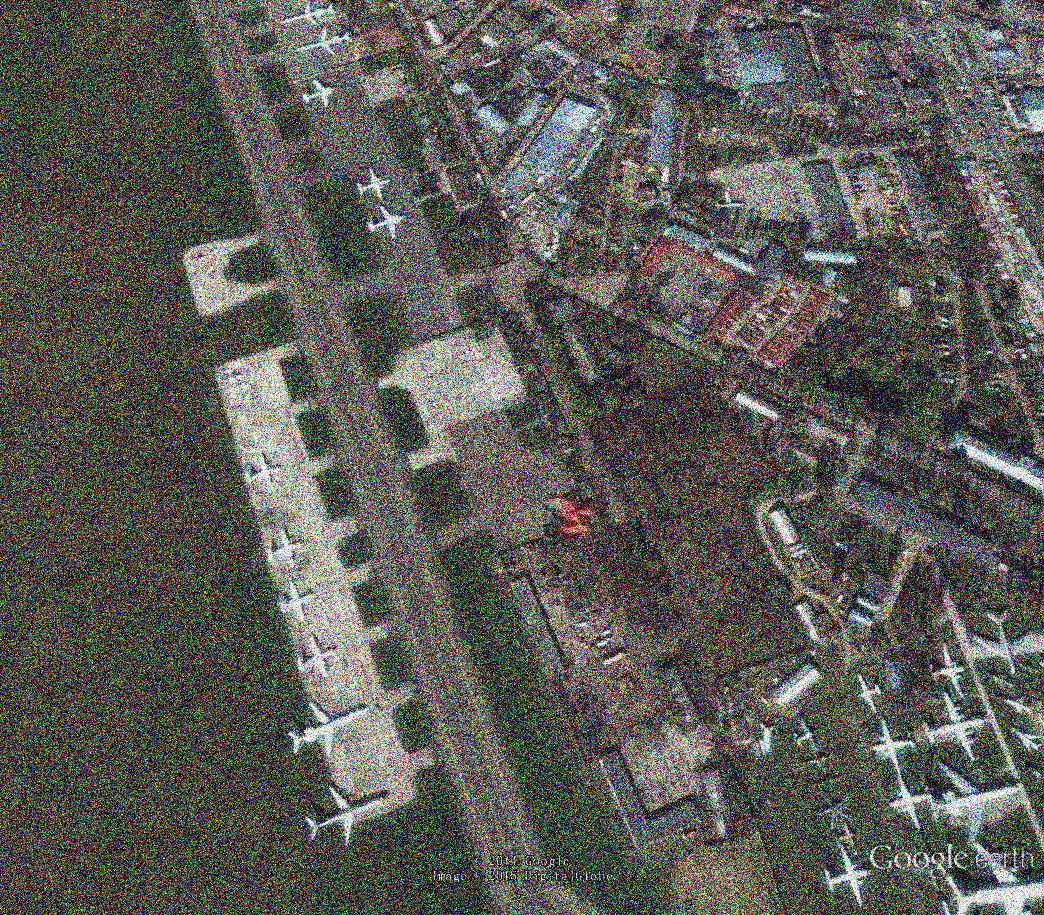aircraft: (921, 757, 1023, 852), (928, 840, 1042, 913), (300, 783, 390, 852), (283, 699, 373, 763), (967, 604, 1039, 681), (921, 691, 993, 765), (885, 771, 945, 840), (928, 639, 975, 703), (873, 715, 921, 775), (291, 633, 339, 682), (276, 576, 318, 630), (264, 523, 309, 573), (243, 453, 288, 498), (294, 27, 357, 58), (361, 204, 405, 246), (850, 669, 885, 718), (282, 3, 339, 31), (708, 187, 748, 225), (354, 168, 396, 204), (298, 78, 340, 112), (1006, 721, 1042, 756), (997, 691, 1036, 720), (789, 717, 822, 751), (982, 667, 1018, 696), (795, 748, 835, 771)
